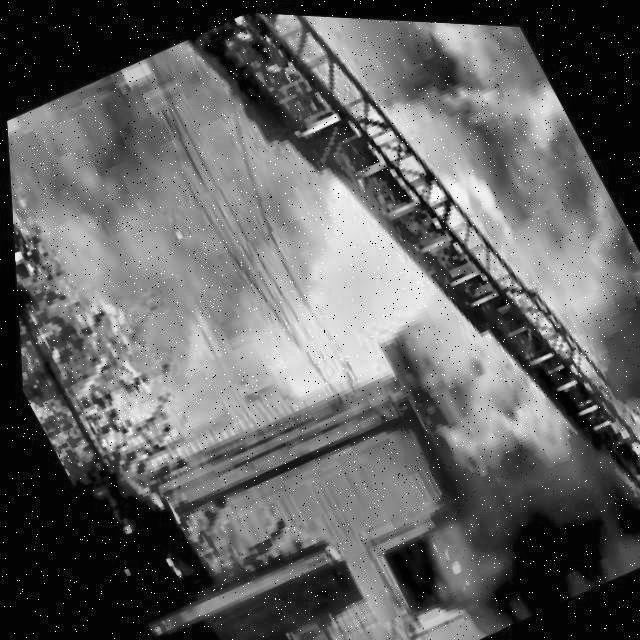Fire: (182, 81, 594, 461)
Smoke: (259, 11, 640, 610)
